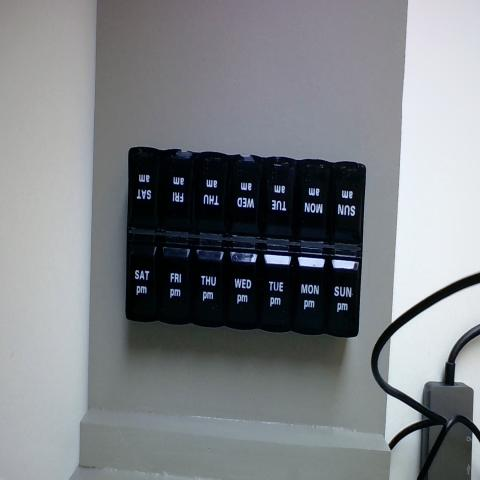FRI-am: (159, 152, 189, 234)
FRI-pm: (157, 234, 188, 318)
MON-am: (298, 153, 326, 238)
MON-pm: (293, 253, 327, 332)
PillBox: (108, 123, 372, 369)
SAT-am: (126, 144, 158, 231)
SAT-pm: (128, 237, 156, 317)
SUN-am: (333, 159, 365, 242)
SUN-pm: (329, 253, 357, 332)
THU-am: (192, 150, 225, 234)
THU-pm: (192, 233, 223, 316)
TUE-am: (260, 153, 292, 237)
TUE-pm: (260, 241, 288, 322)
WED-am: (226, 153, 260, 235)
WED-pm: (222, 237, 258, 322)
